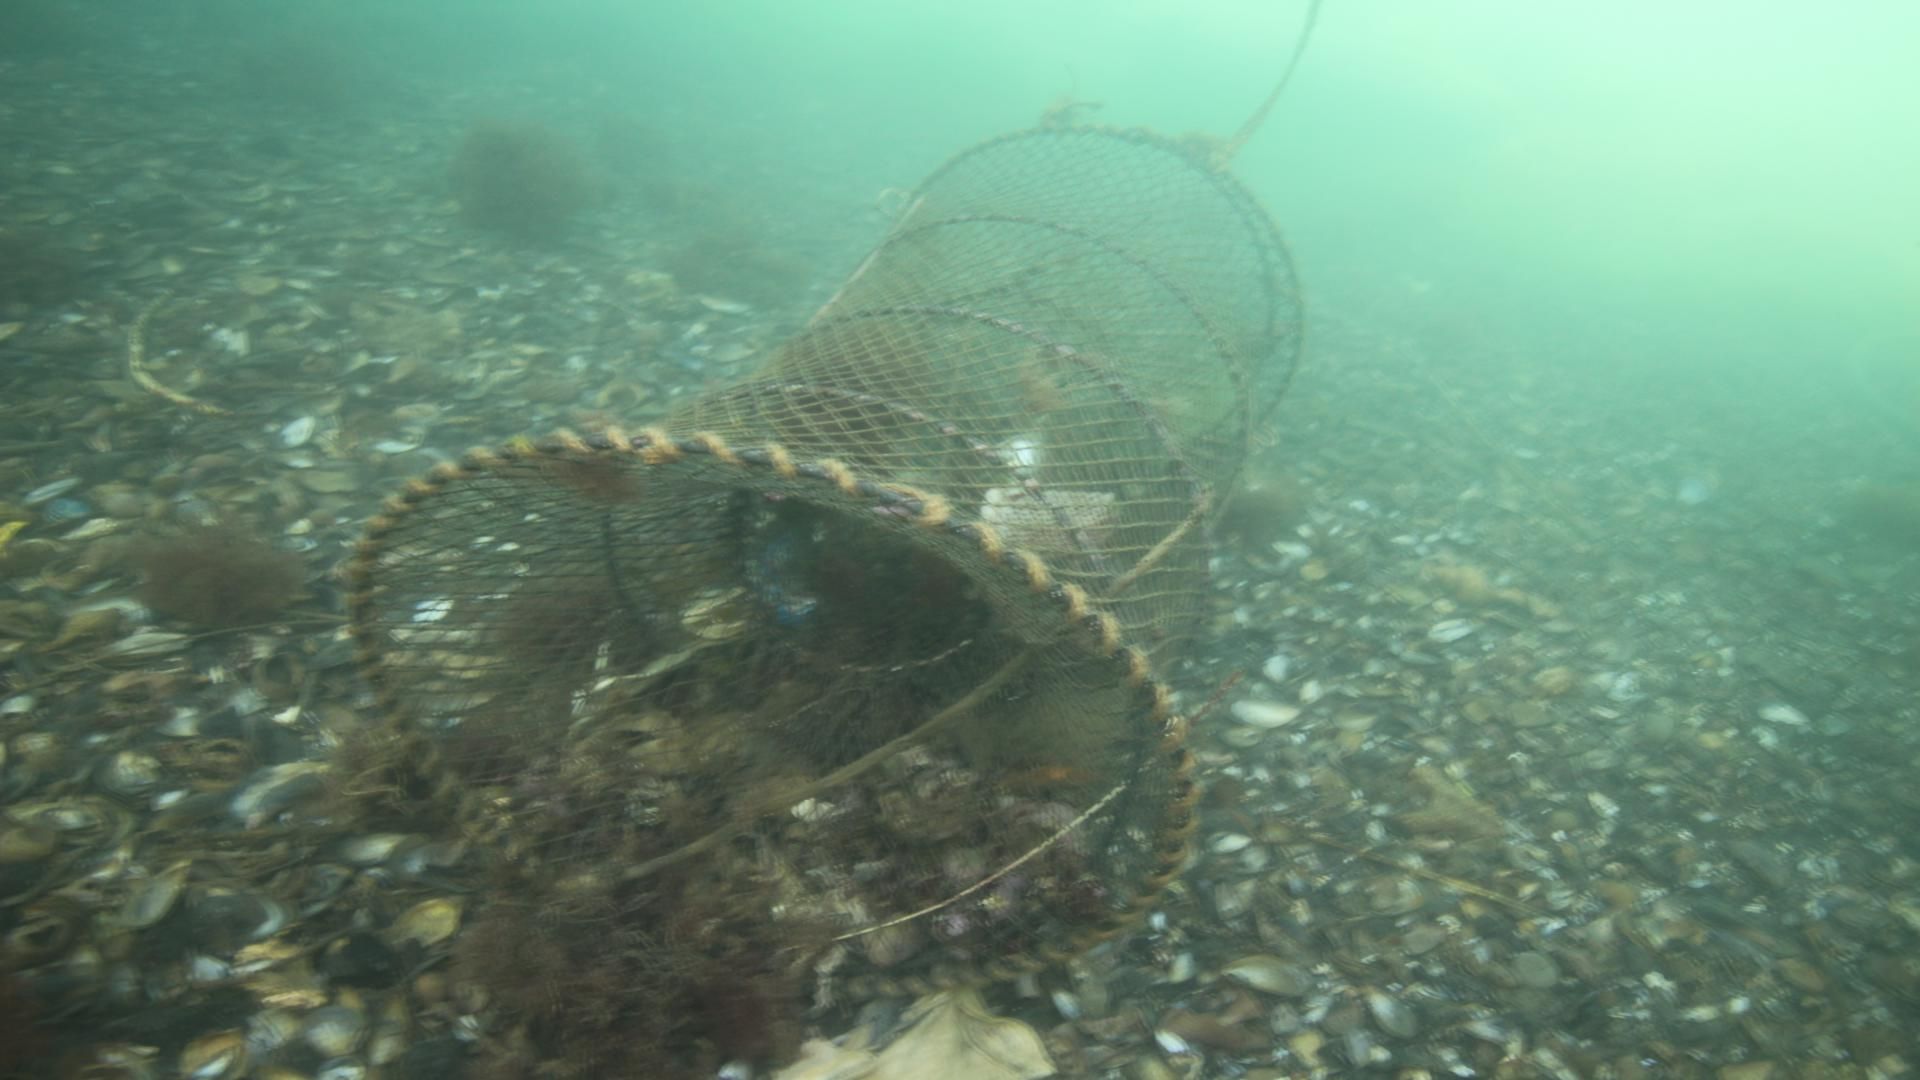rope: (1208, 0, 1327, 160)
spring fish trap: (345, 123, 1304, 1001)
